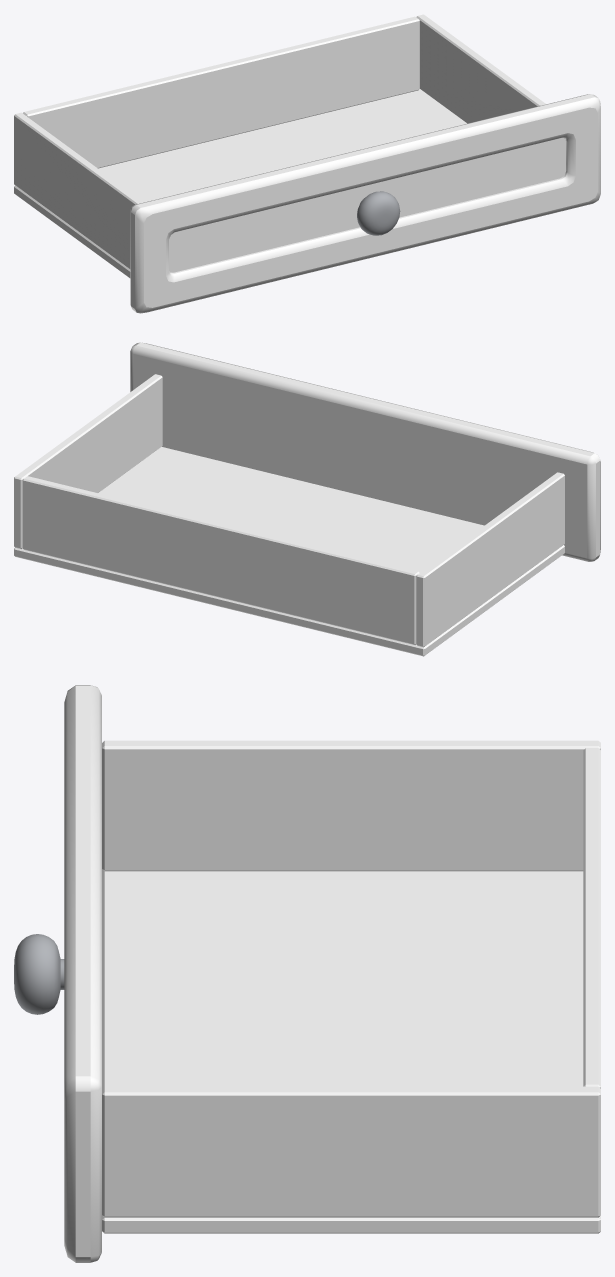
The model's file is Table_box.fbx.
3 renders of one model, top to bottom at view 1: azimuth 30°, elevation 25°; view 2: azimuth 150°, elevation 25°; view 3: azimuth 270°, elevation 25°, orthographic. The views are drawn at different scales.
Visible parts, largest first — view 1: Table_box; view 2: Table_box; view 3: Table_box.
Part boxes in pixels (x1,y1,x2,y2): Table_box: (14,14,600,313); Table_box: (14,342,600,656); Table_box: (14,685,600,1262).
Bounding box in the file's own units: 0.6076 × 0.1317 × 0.3764.
